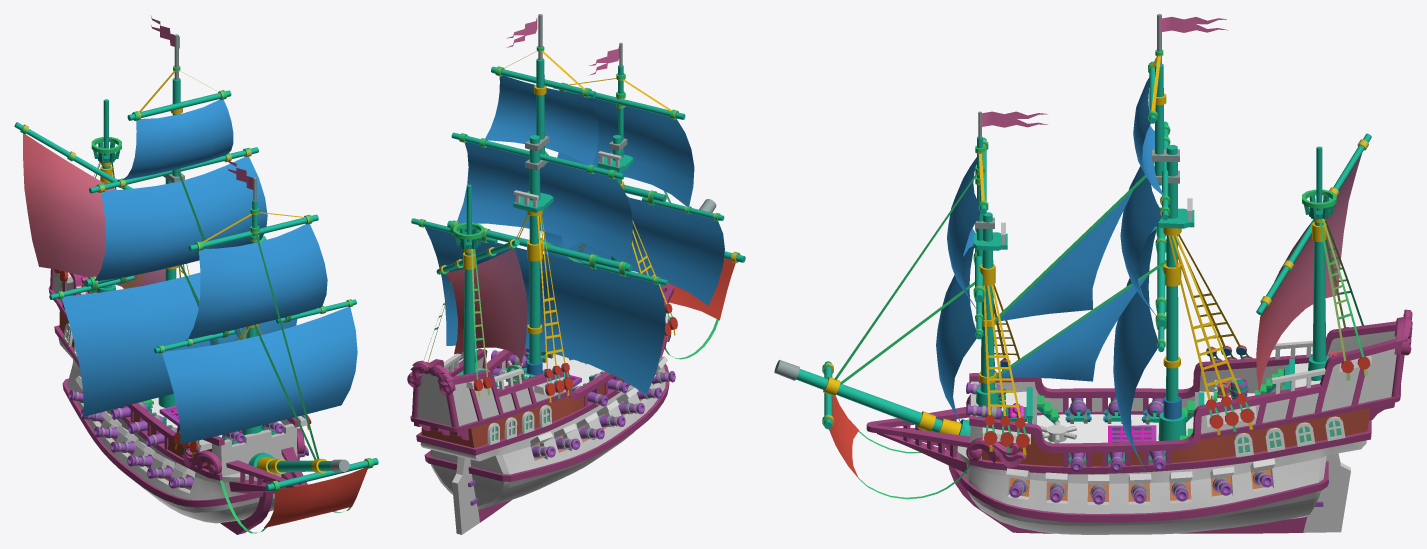
File: Schooner.fbx
The picture shows the model from 3 angles, left to right: view 1: azimuth 30°, elevation 25°; view 2: azimuth 150°, elevation 25°; view 3: azimuth 270°, elevation 25°; orthographic projection. The views are drawn at different scales.
Visible parts, largest first — view 1: Sails, Schooner, Cannon_group, Upgrade_01, Upgrade_02, Flags; view 2: Sails, Schooner, Cannon_group, Upgrade_01, Rudder, Upgrade_02, Flags; view 3: Schooner, Sails, Cannon_group, Upgrade_01, Rudder, Flags, Upgrade_02, Props.
Boxes of the visible parts, x1=… form: Sails: x1=23, y1=99, x2=367, y2=527; Schooner: x1=14, y1=34, x2=378, y2=534; Cannon_group: x1=68, y1=390, x2=308, y2=488; Upgrade_01: x1=62, y1=281, x2=274, y2=507; Upgrade_02: x1=182, y1=428, x2=304, y2=475; Flags: x1=150, y1=15, x2=253, y2=189; Sails: x1=425, y1=75, x2=735, y2=394; Schooner: x1=410, y1=14, x2=745, y2=522; Cannon_group: x1=491, y1=348, x2=675, y2=458; Upgrade_01: x1=424, y1=363, x2=669, y2=481; Rudder: x1=452, y1=456, x2=479, y2=534; Upgrade_02: x1=407, y1=330, x2=671, y2=395; Flags: x1=506, y1=17, x2=619, y2=75; Schooner: x1=774, y1=14, x2=1409, y2=534; Sails: x1=829, y1=77, x2=1361, y2=478; Cannon_group: x1=966, y1=382, x2=1273, y2=504; Upgrade_01: x1=954, y1=368, x2=1364, y2=522; Rudder: x1=1303, y1=453, x2=1350, y2=532; Flags: x1=981, y1=17, x2=1227, y2=127; Upgrade_02: x1=966, y1=309, x2=1412, y2=467; Props: x1=1005, y1=350, x2=1345, y2=421.
Bounding box in the file's own units: 1329 × 2297 × 2572.
